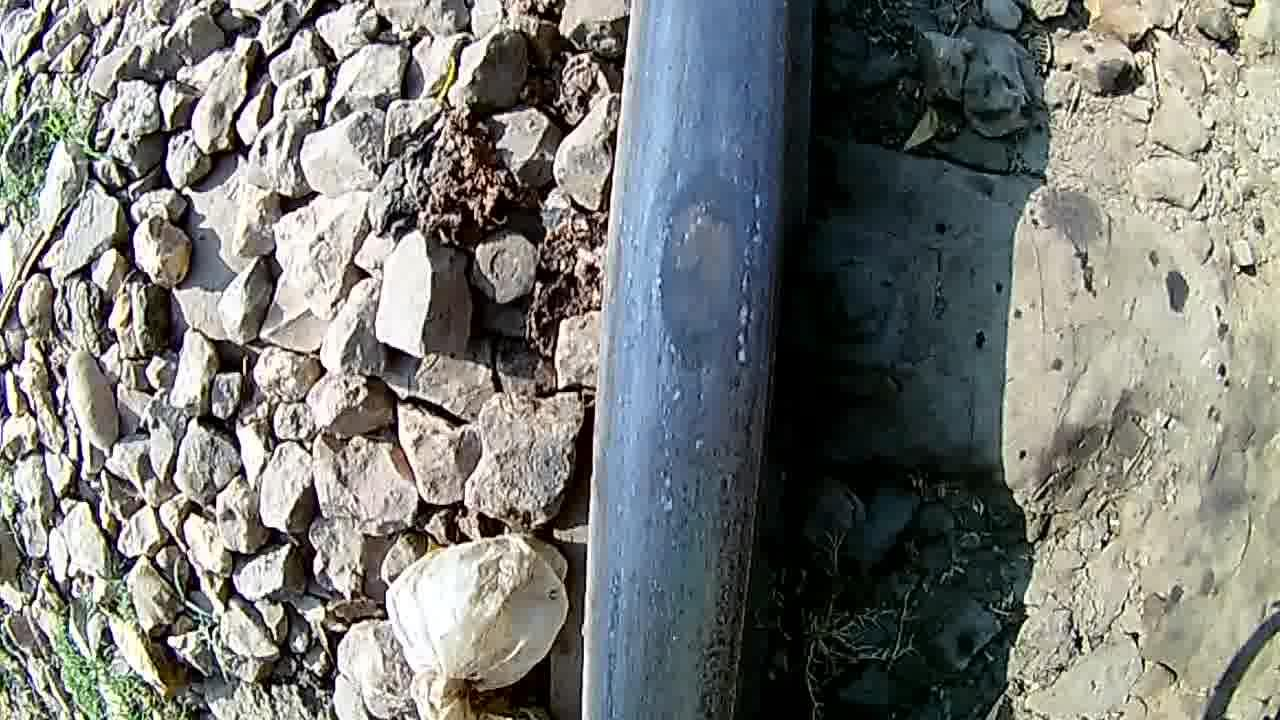bolt_missing: (606, 143, 792, 443)
